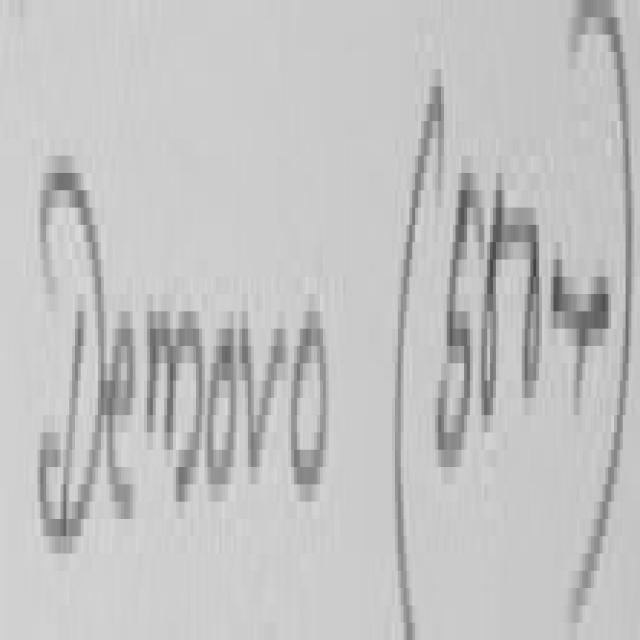0: (525, 208, 542, 389), (484, 216, 499, 406)
5: (438, 173, 487, 467), (398, 259, 415, 640)
D: (40, 173, 107, 554)
e: (107, 329, 135, 519)
m: (147, 311, 205, 502)
o: (291, 311, 329, 484), (208, 329, 236, 484)
v: (242, 329, 285, 458)
